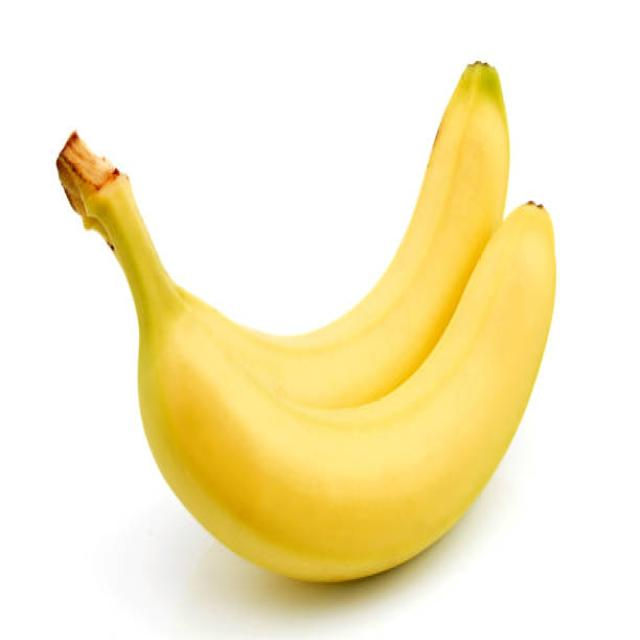Ripe: (100, 195, 557, 586)
